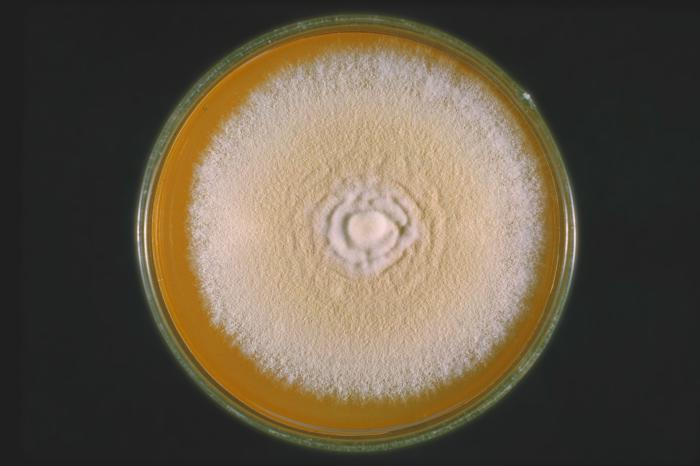Trichophyton: (231, 110, 490, 346)
